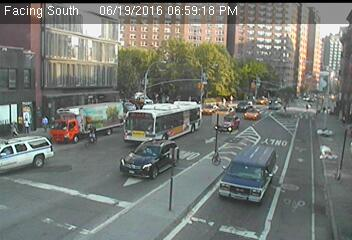neg: (84, 121, 101, 144), (185, 115, 200, 135), (323, 144, 336, 162), (270, 98, 280, 112), (318, 124, 327, 137), (322, 105, 330, 116)
pos: (6, 117, 21, 137), (18, 115, 32, 133), (39, 115, 52, 132)
